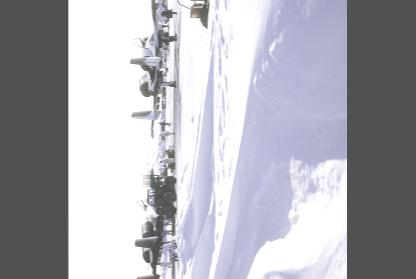A10: (129, 0, 176, 140), (134, 168, 173, 278)
